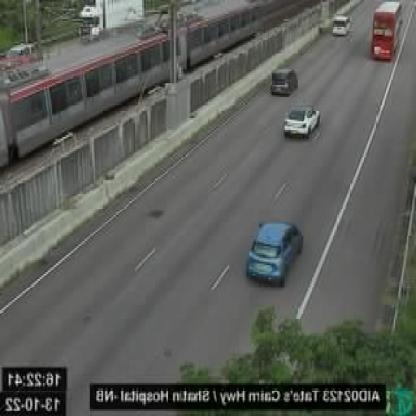Bus: (372, 0, 402, 60)
Car: (246, 221, 302, 288), (283, 106, 321, 140), (269, 67, 298, 97), (331, 17, 352, 38)
